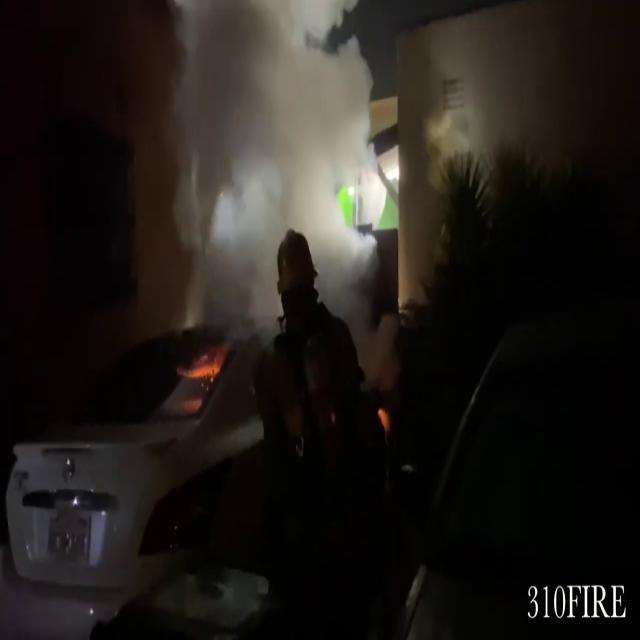Smoke: (133, 0, 394, 337)
